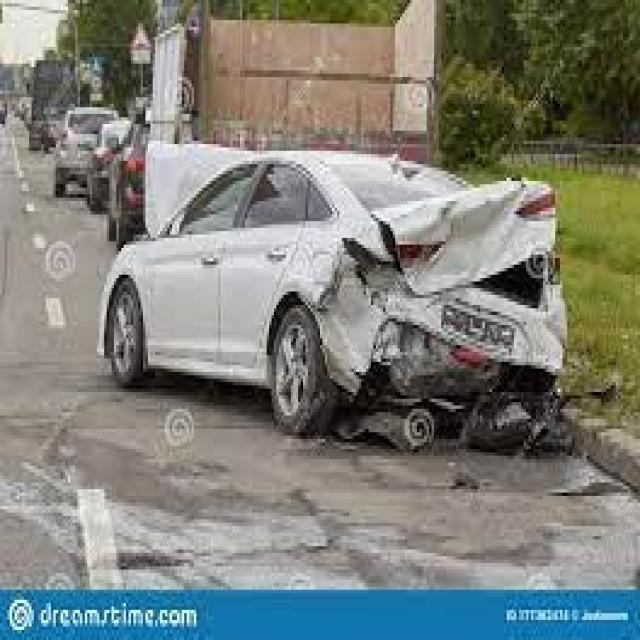damaged-trunk: (372, 172, 563, 298)
